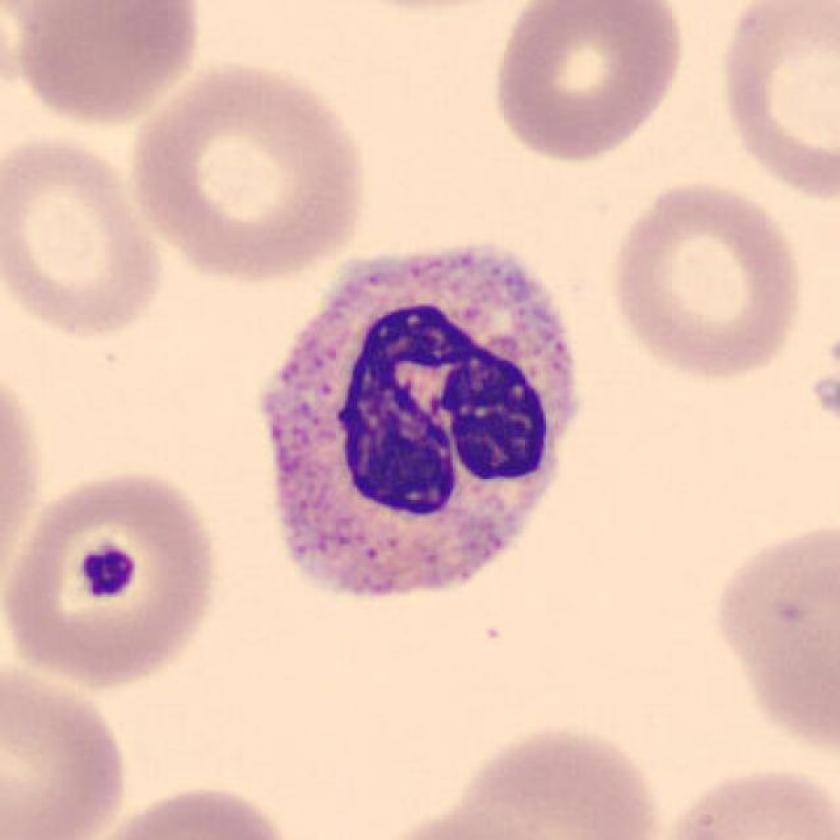neutrophil: (256, 241, 589, 609)
